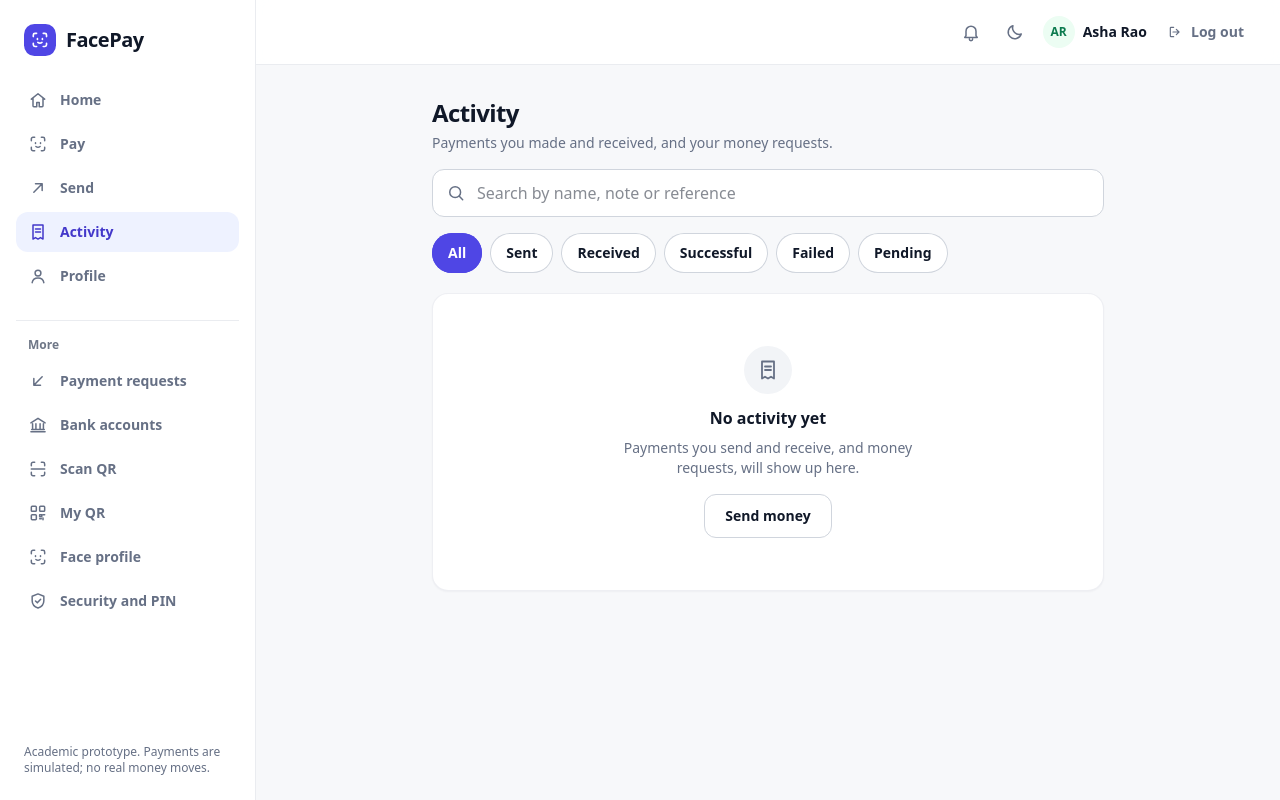
transactions page › distinguishes "no activity yet" from "nothing matches"
Expected: the text "No activity yet" is shown, [710, 406, 826, 430]
Click the button "Sent" at (522, 253), box [490, 233, 554, 273]
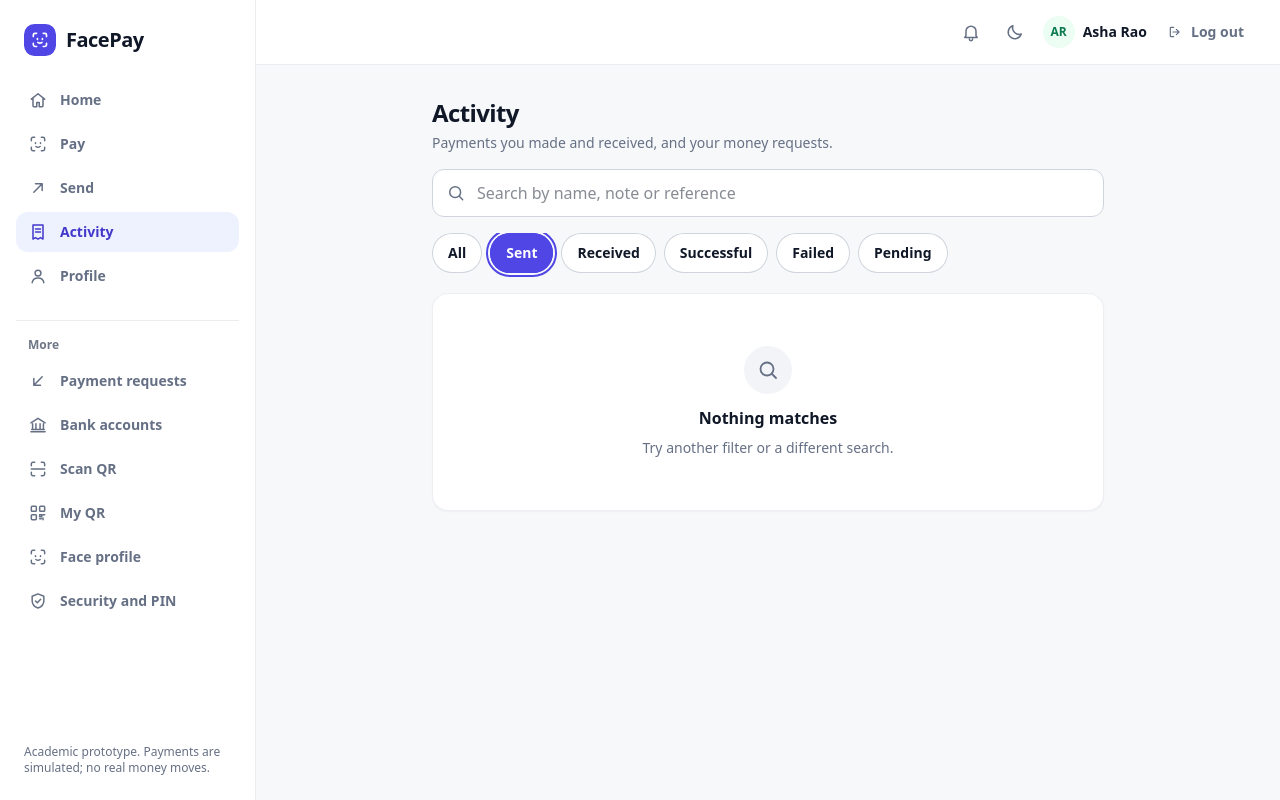
Expected: the text "Nothing matches" is shown, [699, 406, 837, 430]
